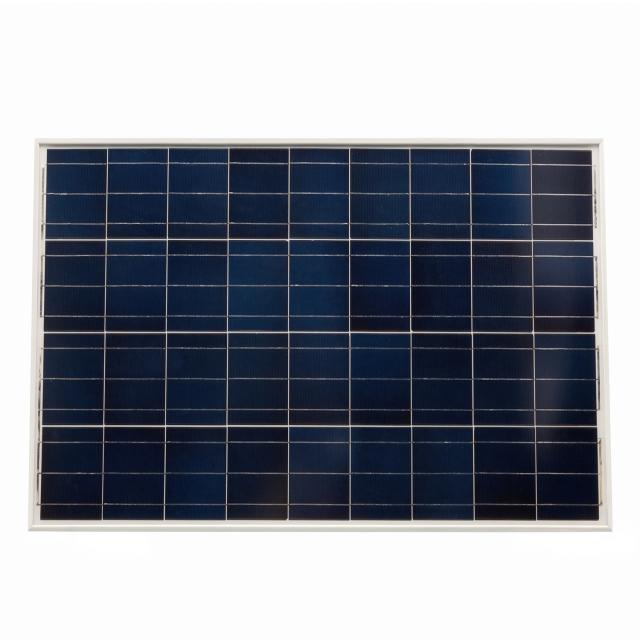clean-solar-panel: (38, 148, 600, 521)
